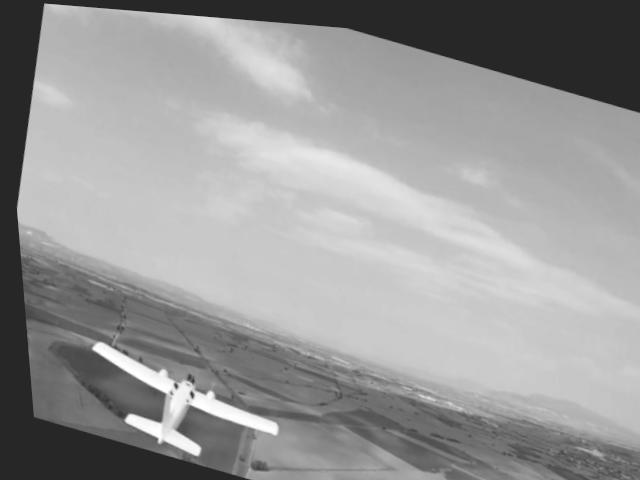hedef: (59, 325, 289, 480)
